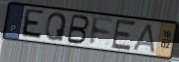A: (132, 22, 156, 54)
B: (65, 13, 91, 46)
E: (110, 18, 138, 52), (19, 8, 46, 42)
F: (89, 15, 115, 48)
Q: (44, 11, 68, 43)
